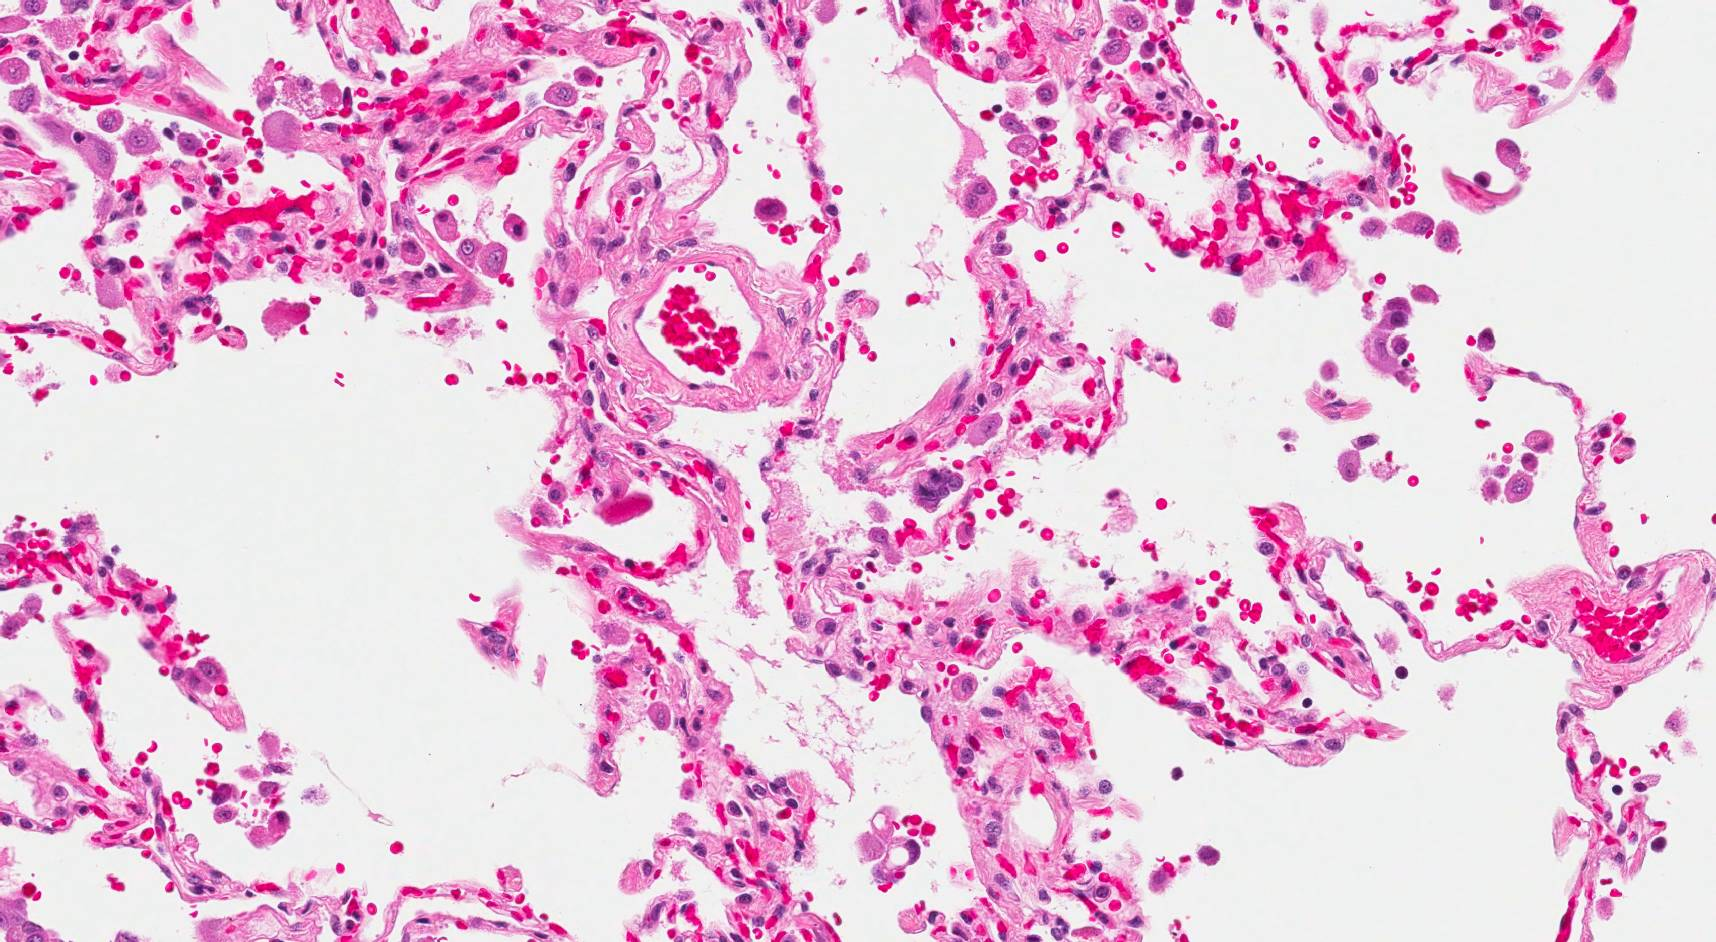stas: (911, 466, 966, 513)
